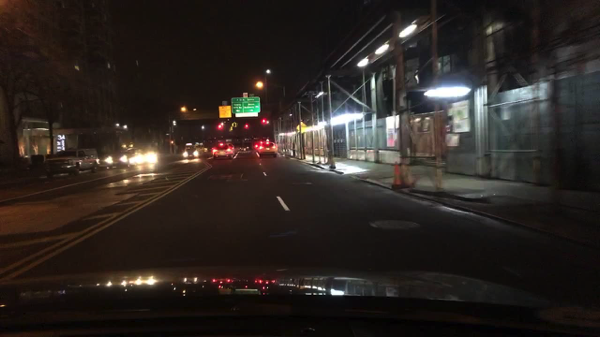car: (44, 148, 100, 179), (104, 150, 137, 169), (136, 147, 163, 166), (212, 141, 234, 161), (259, 139, 279, 159), (183, 147, 204, 158), (254, 140, 263, 152), (229, 142, 235, 154)
traffic light: (261, 117, 268, 125), (214, 124, 223, 130), (245, 124, 250, 130), (231, 123, 237, 128)
traffic sign: (231, 93, 260, 118), (218, 104, 232, 119), (296, 122, 307, 133)
